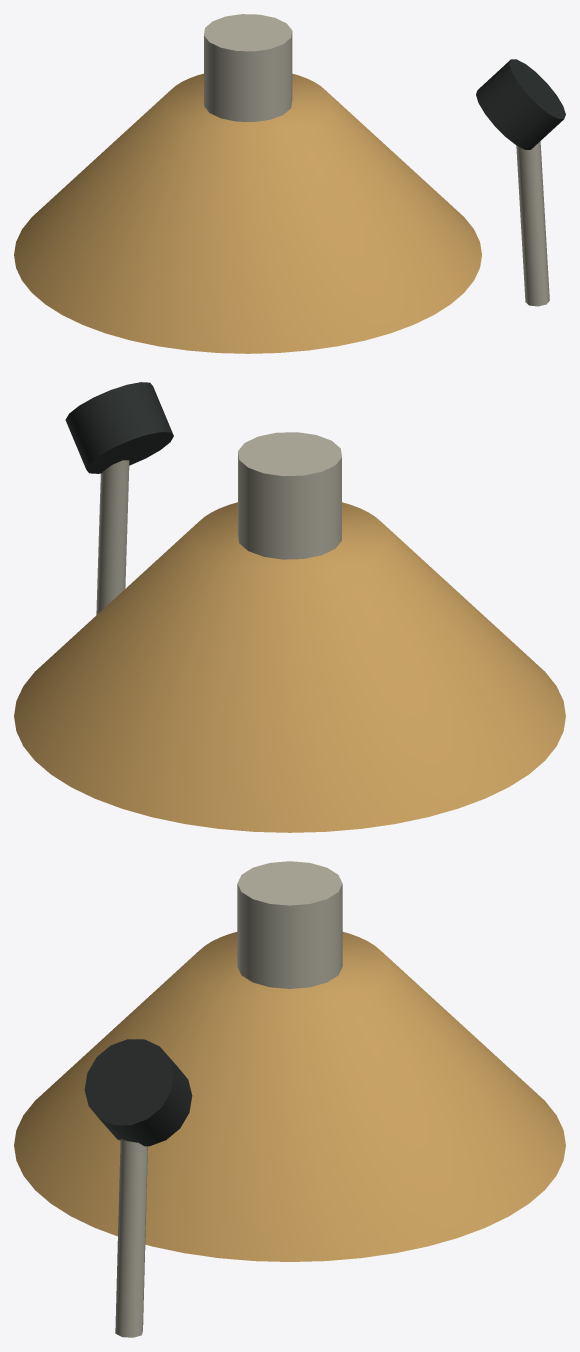
Rendered from Atelier.glb.
3 renders of one model, top to bottom at view 1: azimuth 30°, elevation 25°; view 2: azimuth 150°, elevation 25°; view 3: azimuth 270°, elevation 25°, orthographic. The views are drawn at different scales.
Visible parts, largest first — view 1: Bell skirt, Crown, Clapper, Striker spring; view 2: Bell skirt, Crown, Clapper, Striker spring; view 3: Bell skirt, Crown, Clapper, Striker spring.
Part boxes in pixels (<box>): Bell skirt: <box>14,73,481,353</box>; Crown: <box>204,14,292,121</box>; Clapper: <box>476,59,565,149</box>; Striker spring: <box>516,141,549,306</box>; Bell skirt: <box>14,502,565,832</box>; Crown: <box>238,432,341,559</box>; Clapper: <box>65,382,173,473</box>; Striker spring: <box>96,460,129,614</box>; Bell skirt: <box>14,932,565,1261</box>; Crown: <box>237,861,342,988</box>; Clapper: <box>84,1039,192,1146</box>; Striker spring: <box>115,1139,147,1337</box>.
Size of the model in its own units: 0.4673 by 0.2706 by 0.42.
